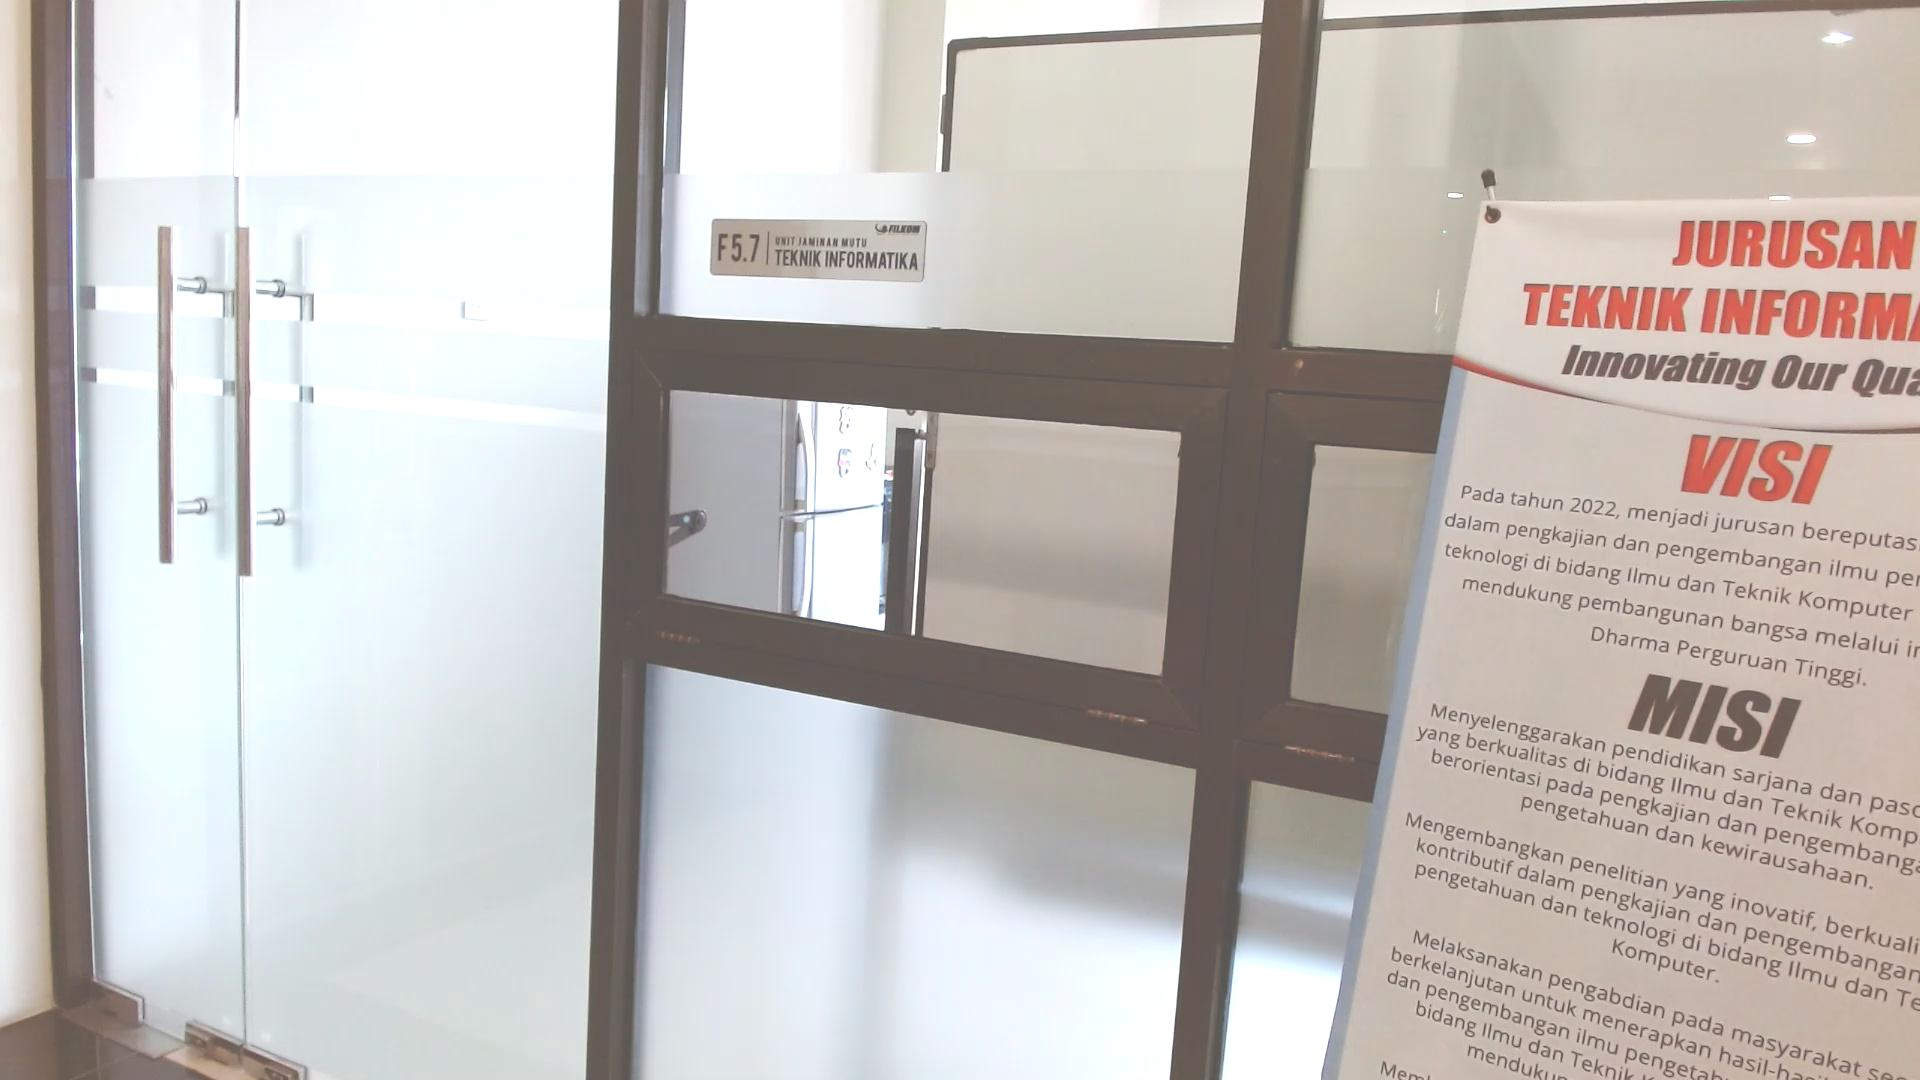plate: (709, 219, 927, 282)
